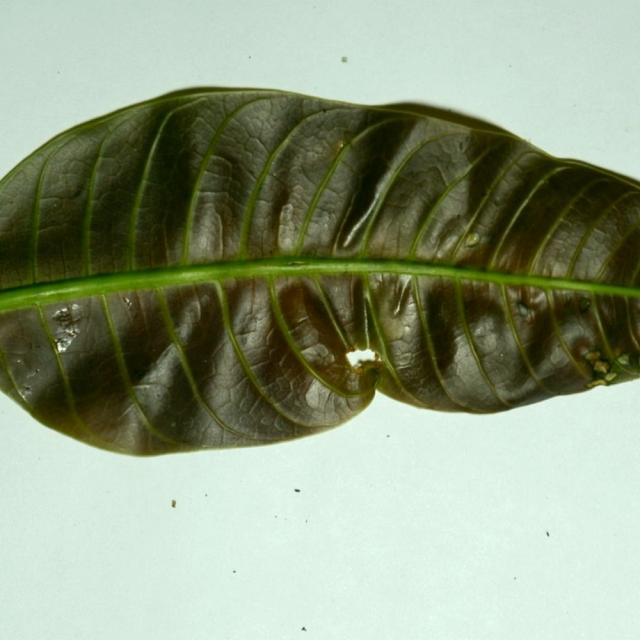Anthracnose: (52, 305, 85, 352), (584, 350, 619, 385), (277, 202, 295, 246), (346, 348, 381, 370), (464, 232, 481, 247), (341, 56, 348, 63)
Mango: (0, 86, 639, 460)
